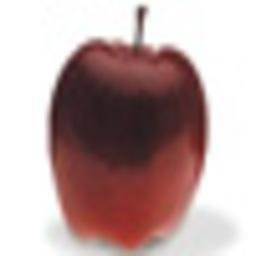apple: (50, 31, 206, 249)
